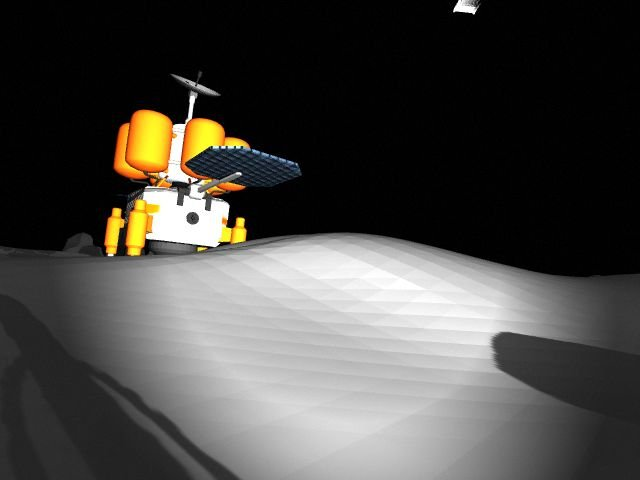homebase: (94, 70, 303, 265)
